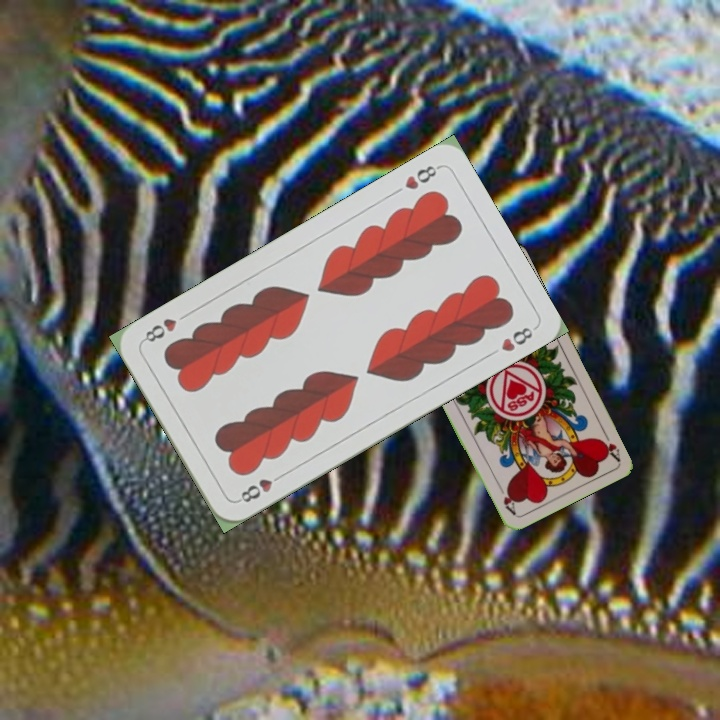H8: (233, 469, 287, 505), (400, 161, 443, 192)
HA: (595, 424, 623, 463)
